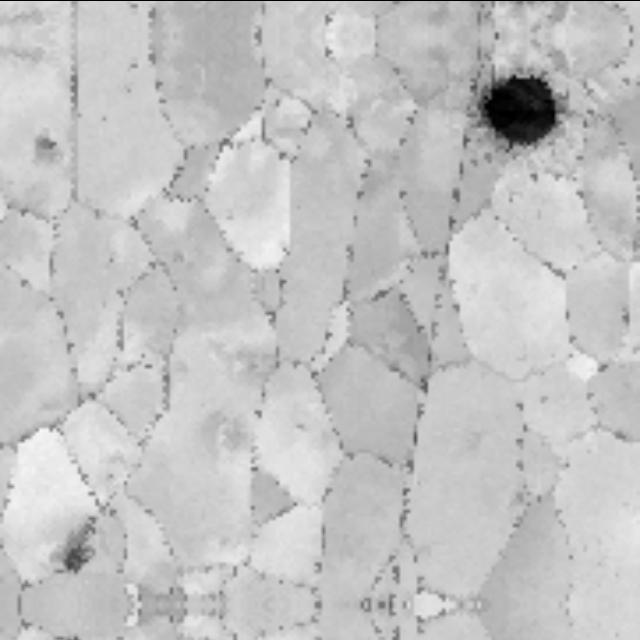good_void: (470, 62, 576, 175), (39, 508, 106, 581), (6, 106, 73, 177)
